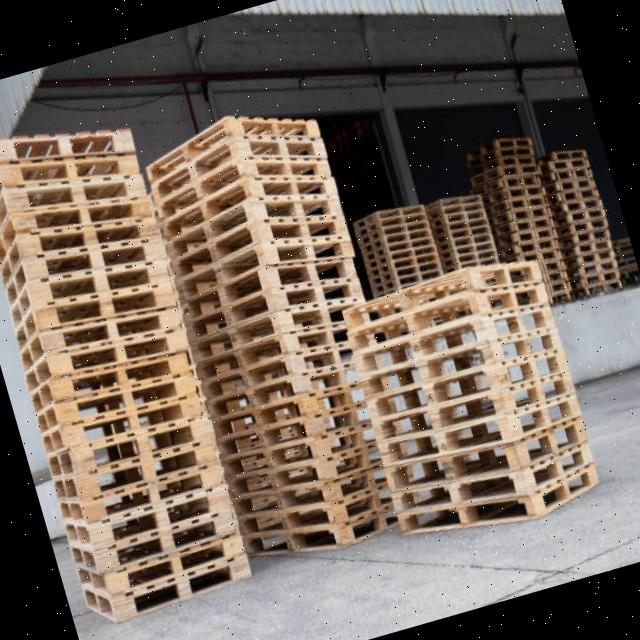Wooden-Pallets: (355, 299, 559, 389), (393, 454, 606, 540), (368, 365, 580, 450), (140, 107, 330, 192), (111, 551, 253, 631), (27, 279, 180, 348), (91, 506, 236, 578), (58, 384, 217, 447), (0, 115, 136, 170)
